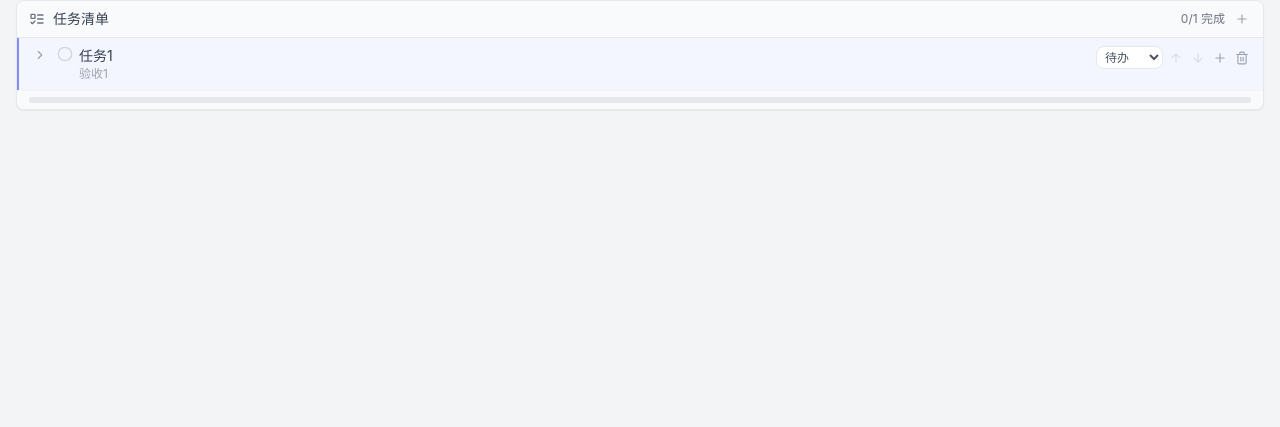
TaskListPanel › 渐进披露：折叠看不到 detail，展开看到全文且有滚动上限
Expected: the field labelled "详情" is not shown
Step 1. Click the button named "展开任务" → (40,55), box [31, 46, 49, 64]
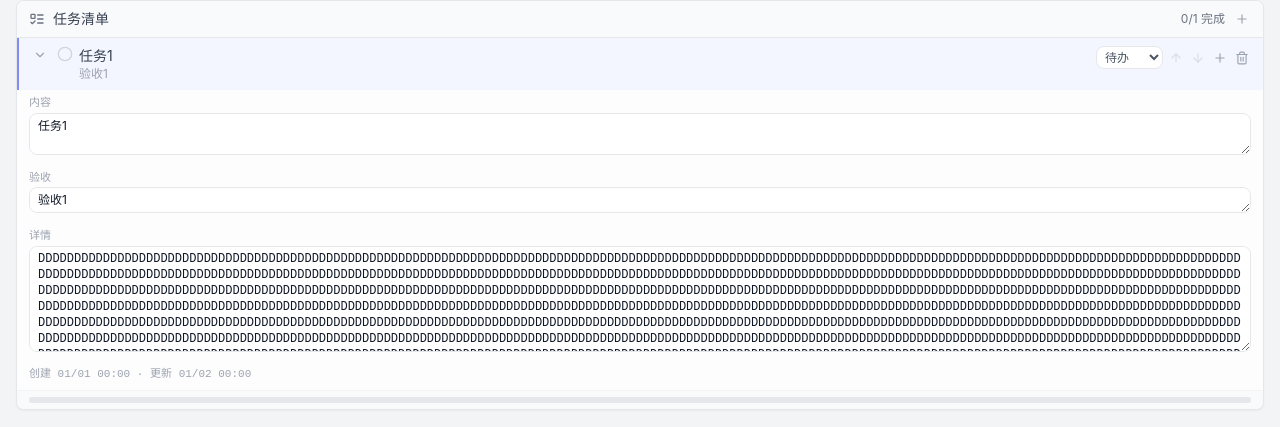
Step 2. Click the button named "折叠任务" → (40,55), box [31, 46, 49, 64]
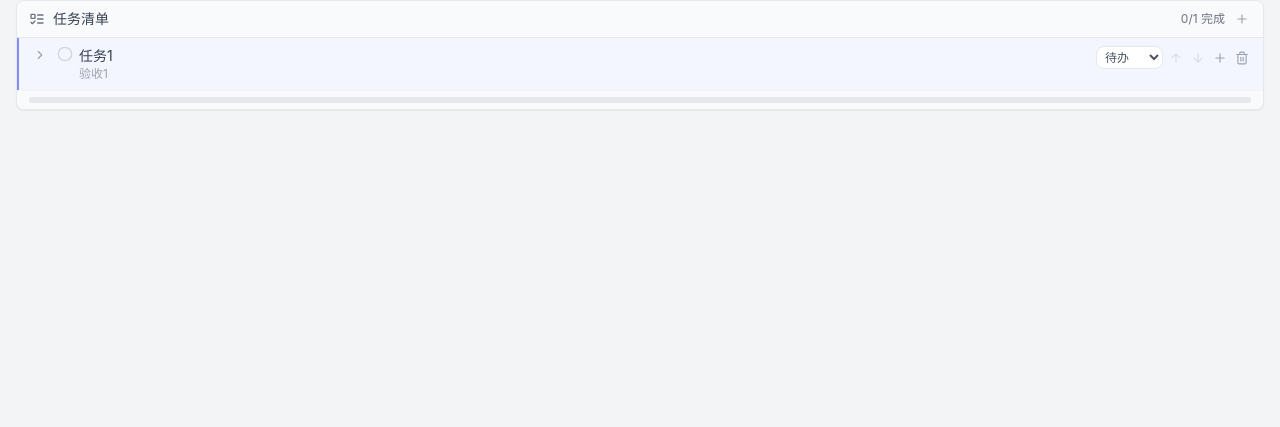
Expected: the text labelled "详情" is gone
